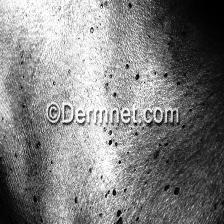Benign Marking or Mole: (27, 135, 188, 224), (83, 4, 201, 94)
